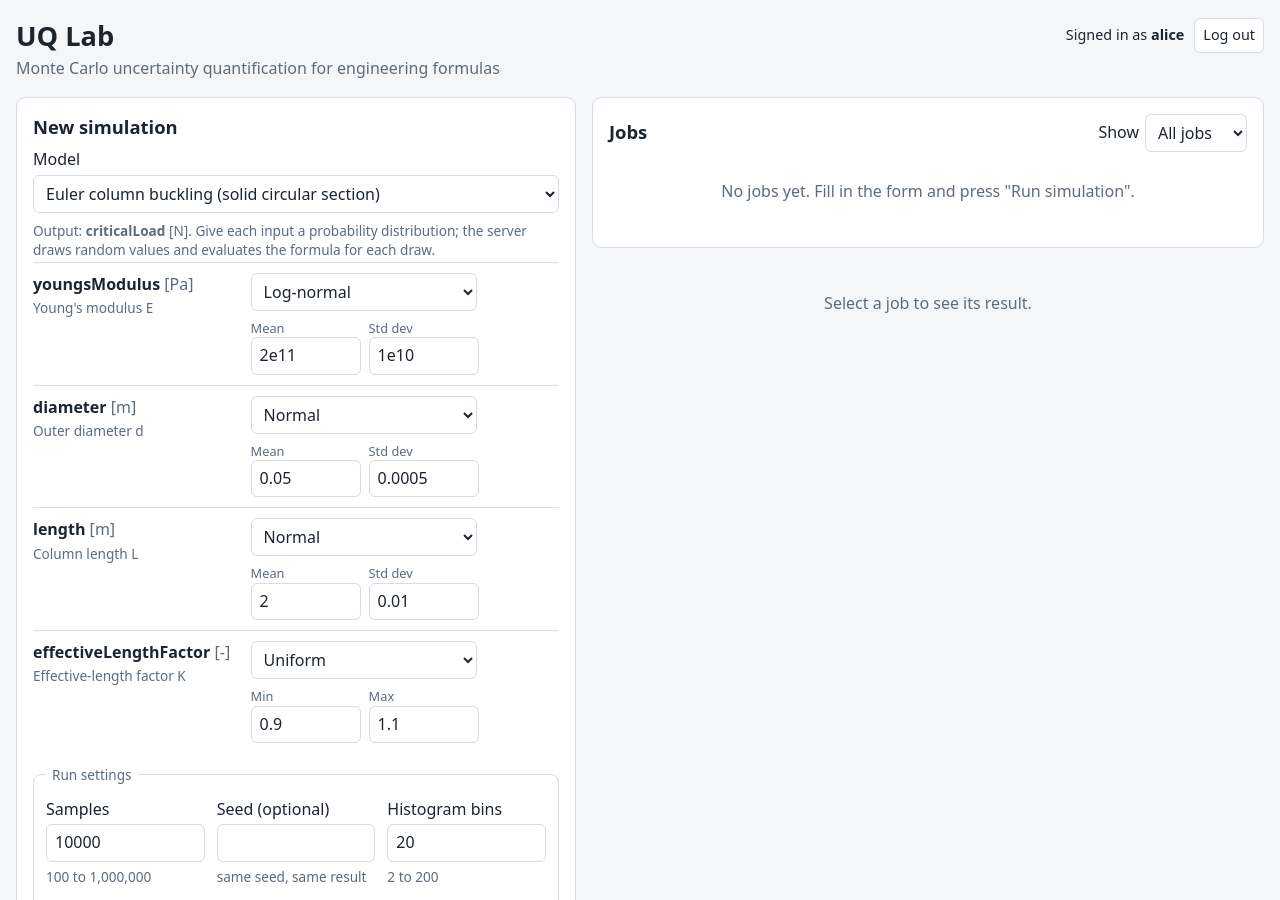
it: sign in and out › logs out: clears the saved session and returns to the sign-in page
Expected: the heading "New simulation" is shown, [33,114,178,139]
Click the button "Log out".
click(1229, 36)  # box [1194,18,1264,53]
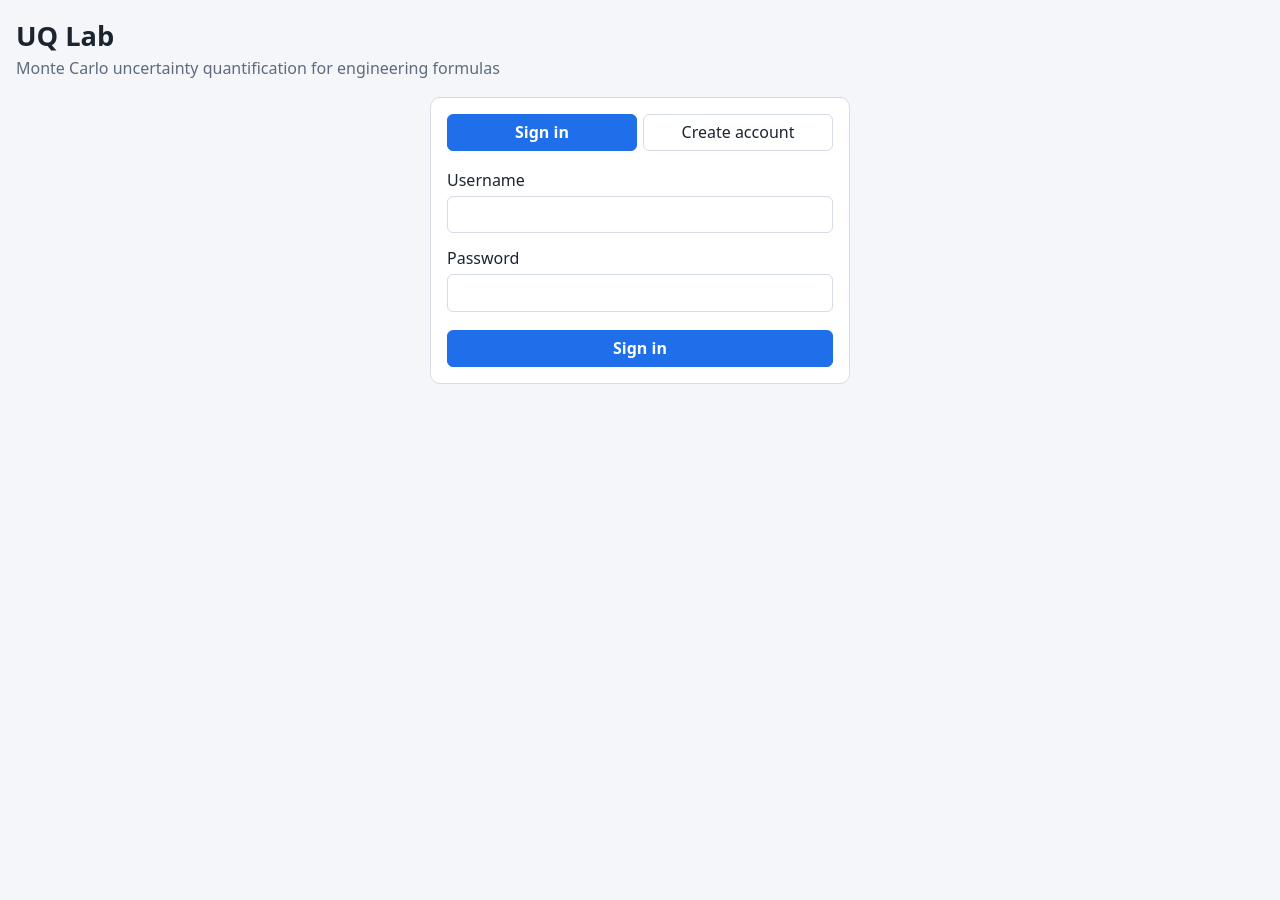
Now the tab "Sign in" is shown, box [447,114,637,151]
